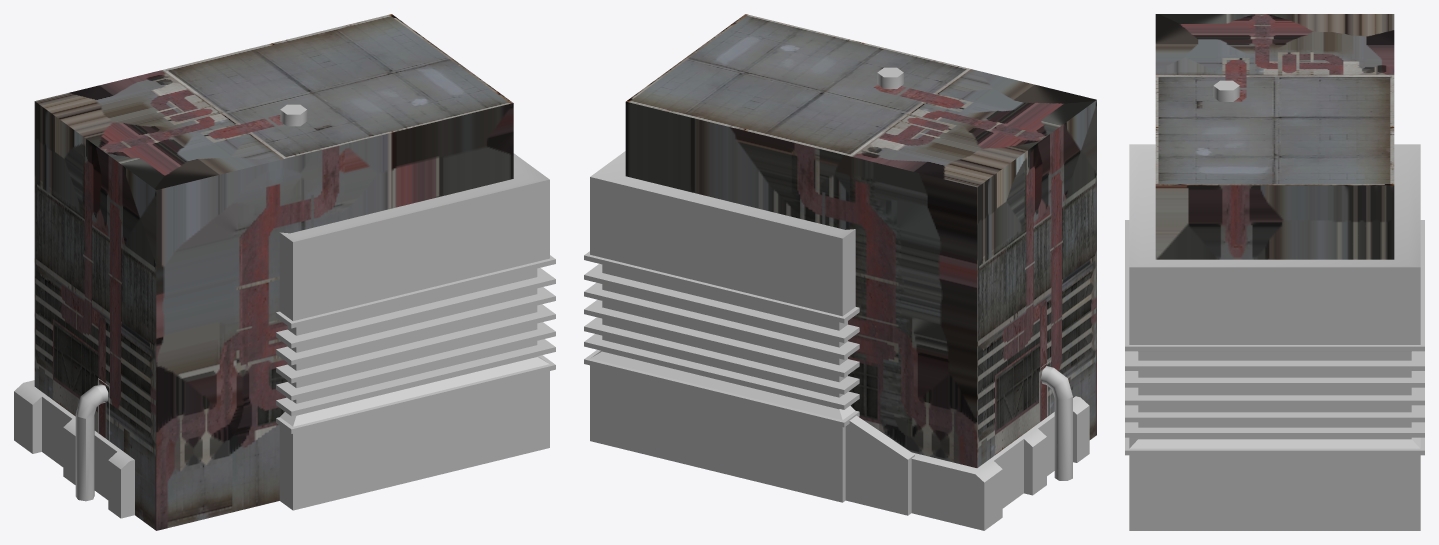
The model's file is dz_industrial_04.fbx.
The picture shows the model from 3 angles, left to right: view 1: azimuth 30°, elevation 25°; view 2: azimuth 150°, elevation 25°; view 3: azimuth 270°, elevation 25°; orthographic projection.
Visible parts, largest first — view 1: dz_industrial_04_LOD0; view 2: dz_industrial_04_LOD0; view 3: dz_industrial_04_LOD0.
Boxes of the visible parts, x1,y1,x2,y2 form: dz_industrial_04_LOD0: (14, 14, 555, 530); dz_industrial_04_LOD0: (584, 14, 1096, 530); dz_industrial_04_LOD0: (1125, 14, 1424, 530).
Size of what is drawn, in the model's own units: 18.34 by 15.04 by 11.81.
